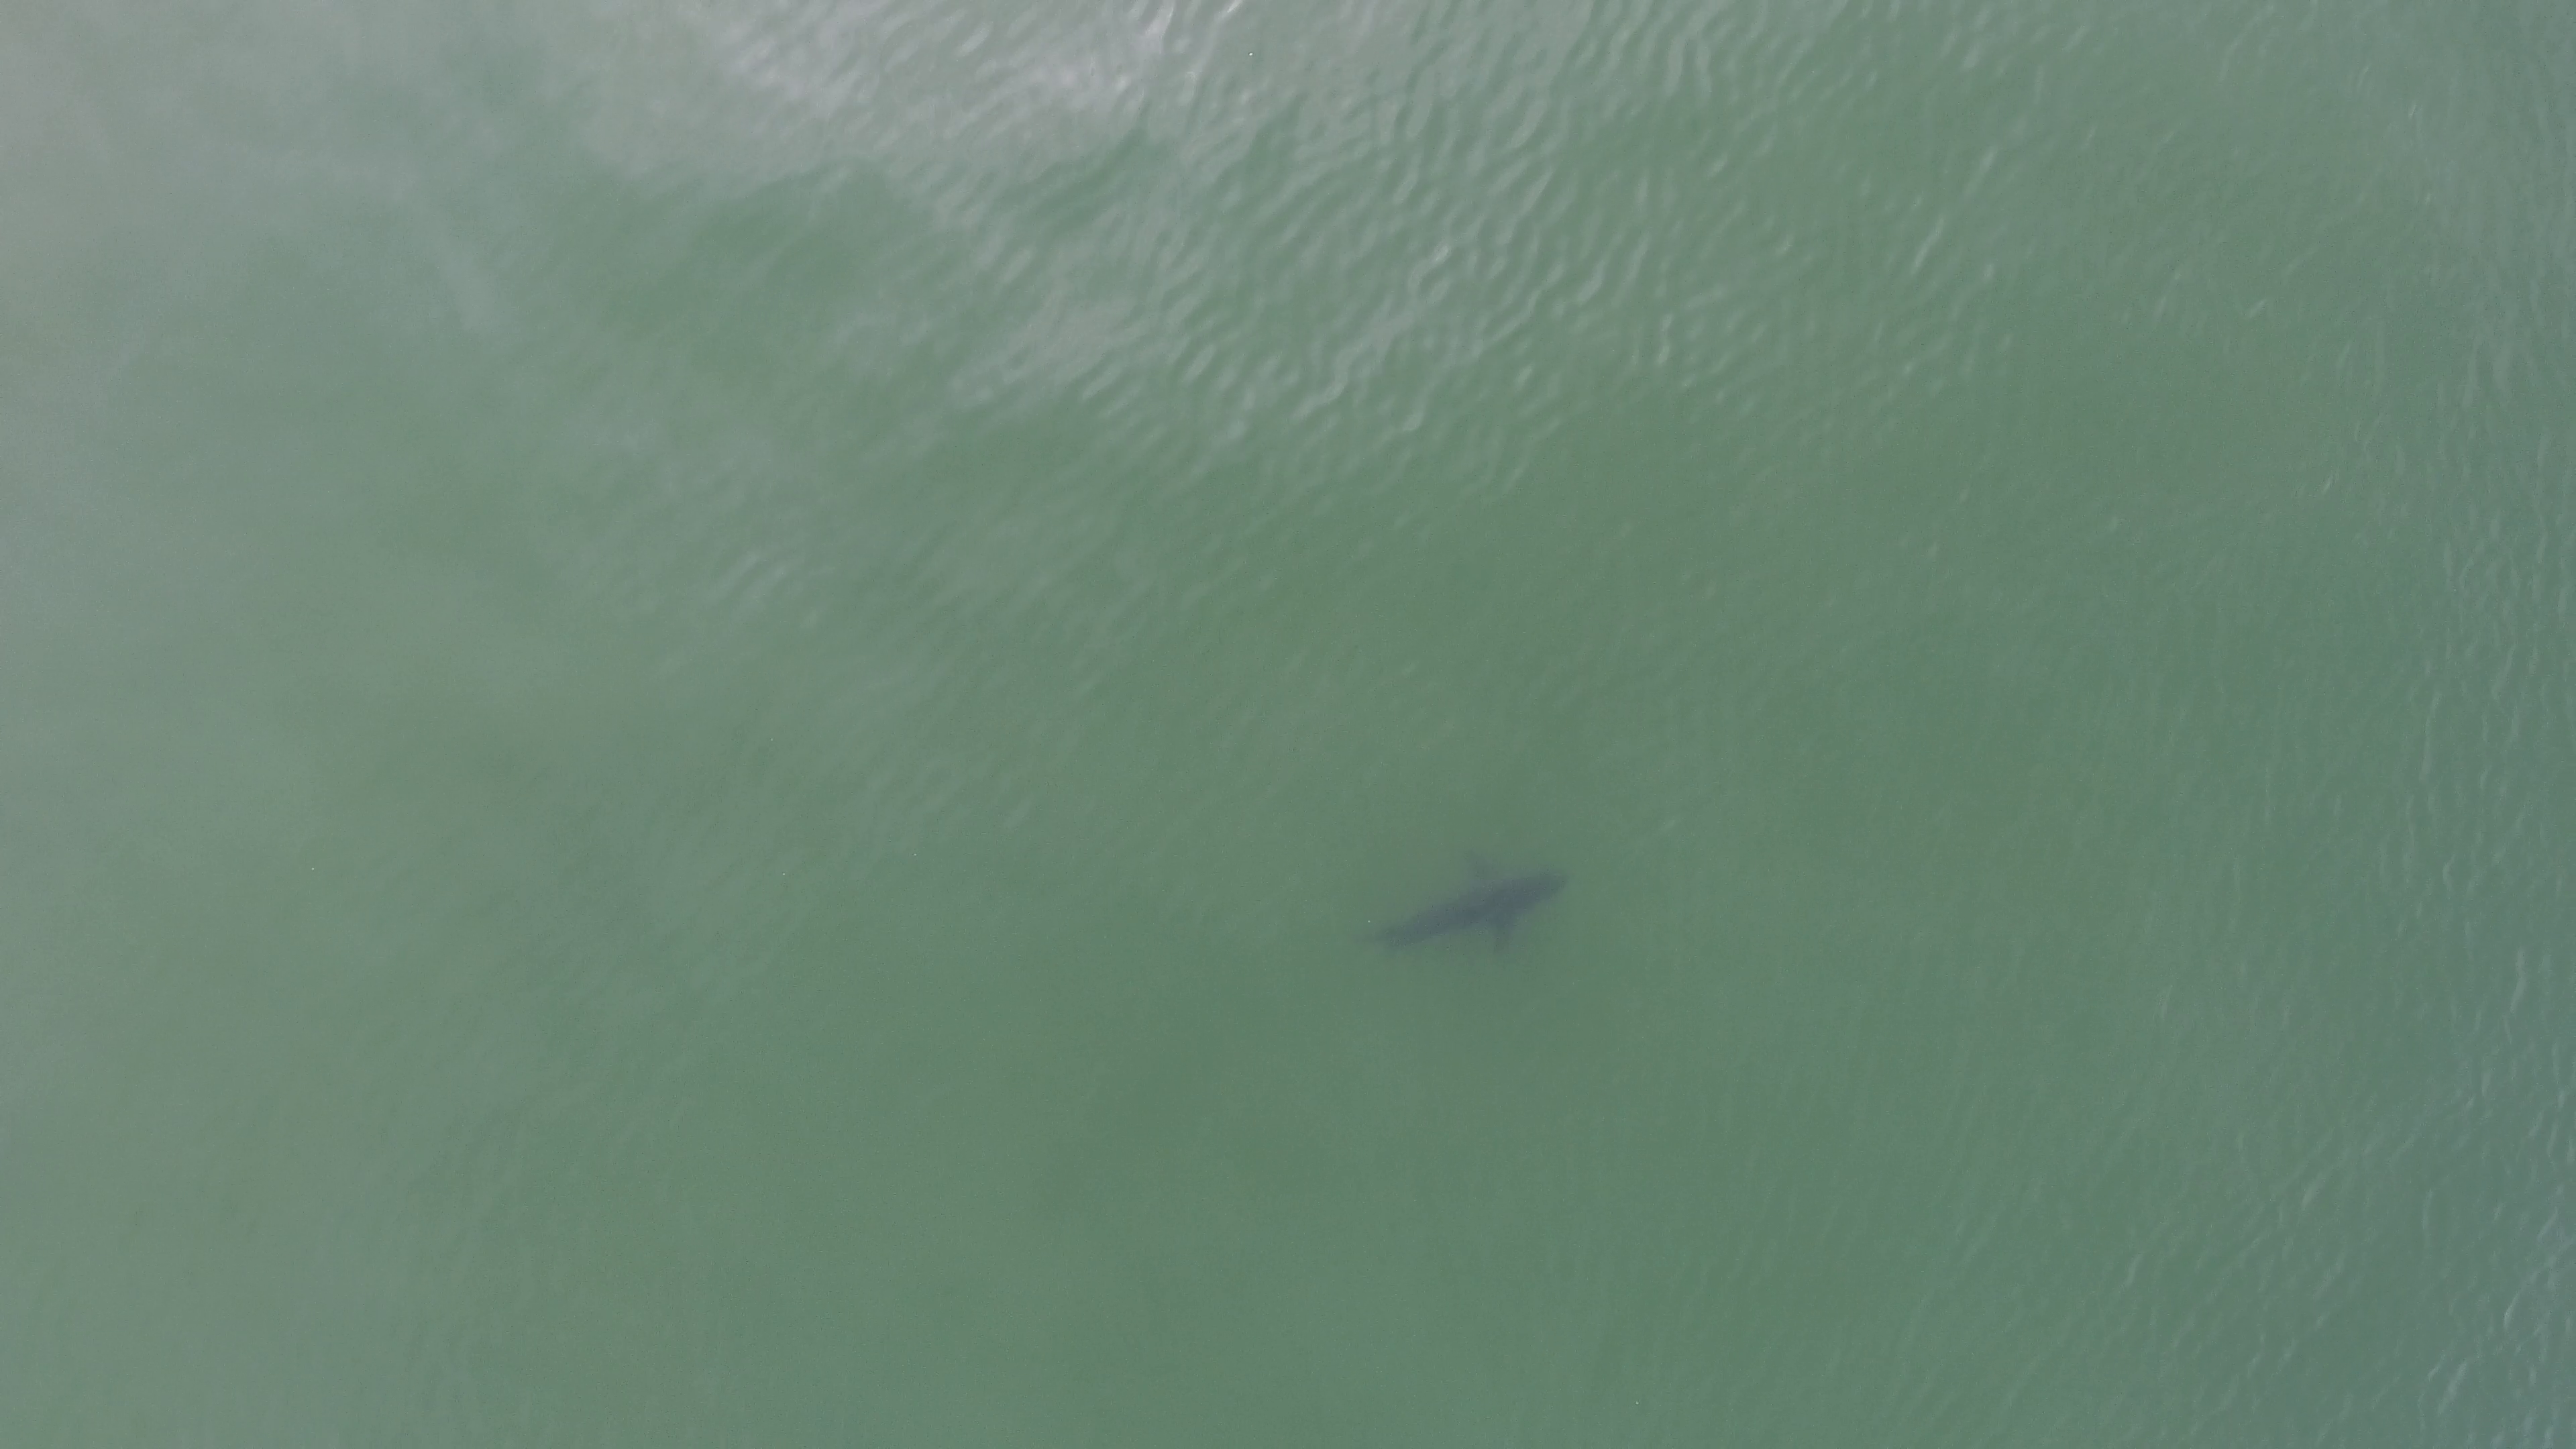shark: (1338, 839, 1603, 991)
